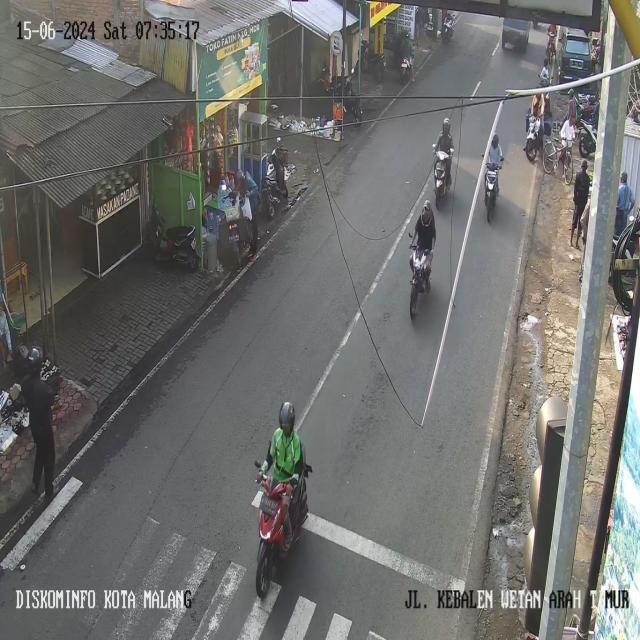Helmet: (279, 401, 294, 434), (27, 346, 42, 374), (421, 200, 433, 226), (442, 118, 450, 134), (492, 134, 498, 147), (621, 172, 627, 182), (581, 160, 587, 170), (568, 89, 574, 97)
Number Plate: (259, 494, 277, 514), (229, 233, 239, 242)
